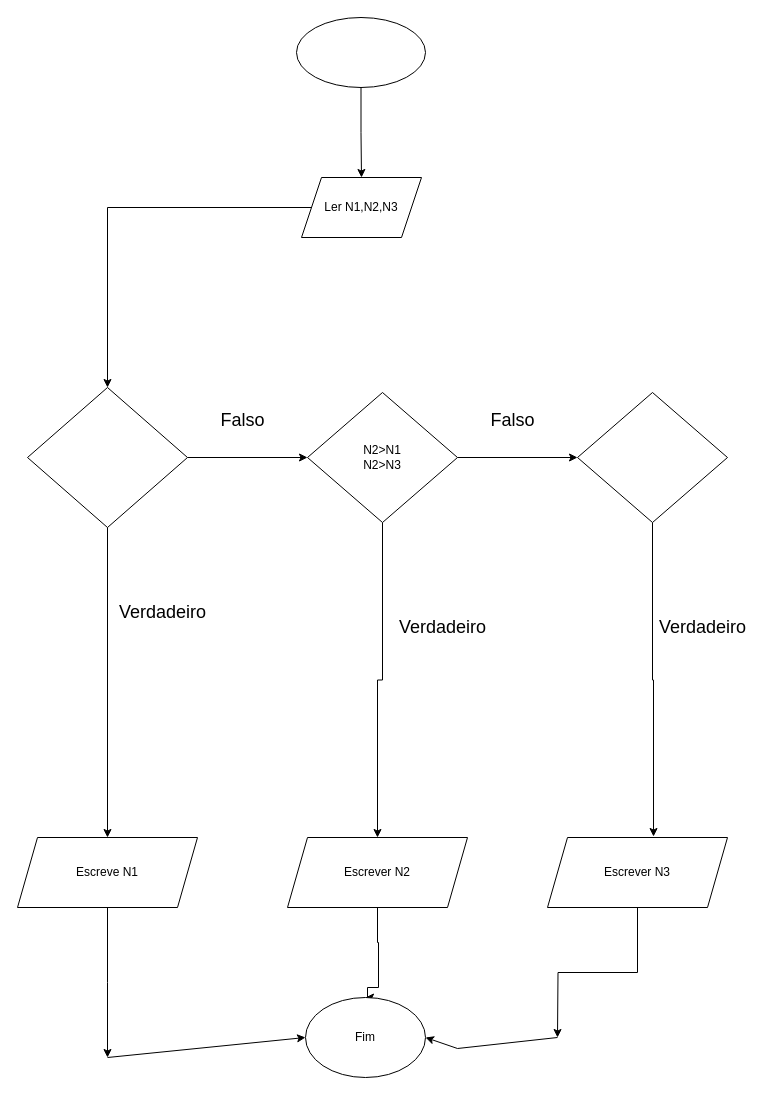
This 775x1095 diagram has some shape labels left out. The shapes that lost their labels are listed below. From the top down, each one's box as (x1, y1, x2, y2) in pixels, then its label:
(296, 16, 426, 88): inico
(26, 386, 188, 528): N1>N2 N1>N3
(576, 392, 728, 522): N3>N1 N3>N2
